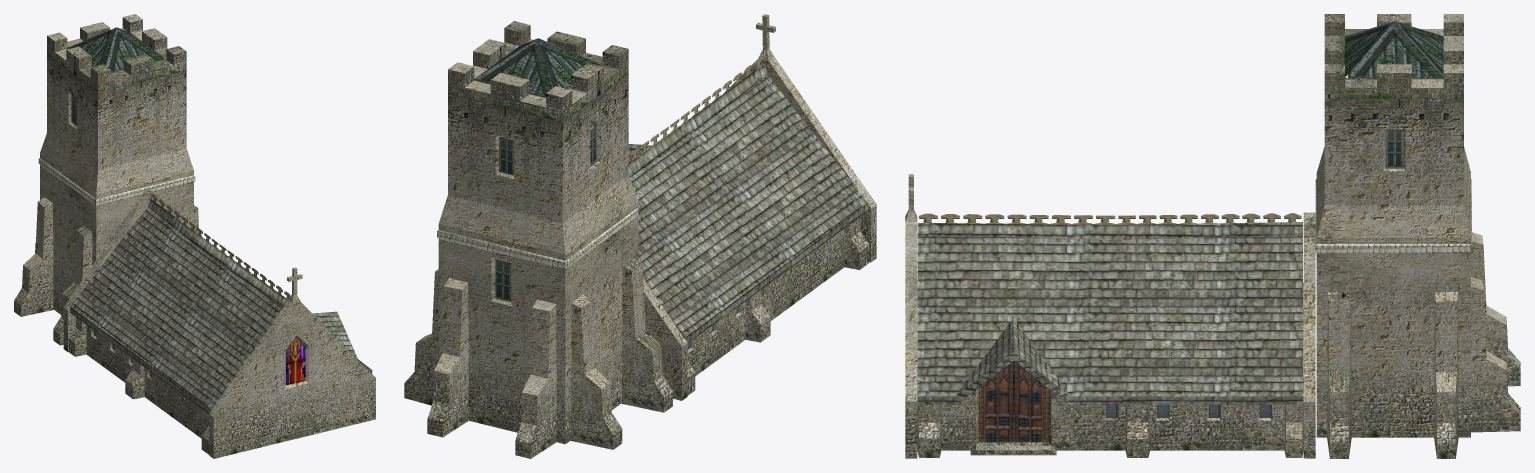
The model's file is building_church.glb.
The picture shows the model from 3 angles, left to right: view 1: azimuth 30°, elevation 25°; view 2: azimuth 150°, elevation 25°; view 3: azimuth 270°, elevation 25°; orthographic projection. The views are drawn at different scales.
Parts seen in each view (by area): view 1: building_church; view 2: building_church; view 3: building_church.
Boxes of the visible parts, x1=… form: building_church: x1=14, y1=14, x2=375, y2=458; building_church: x1=404, y1=14, x2=876, y2=458; building_church: x1=905, y1=14, x2=1520, y2=458.
Bounding box in the file's own units: 10.06 × 16.5 × 23.92.
6 materials, 6 textured.
